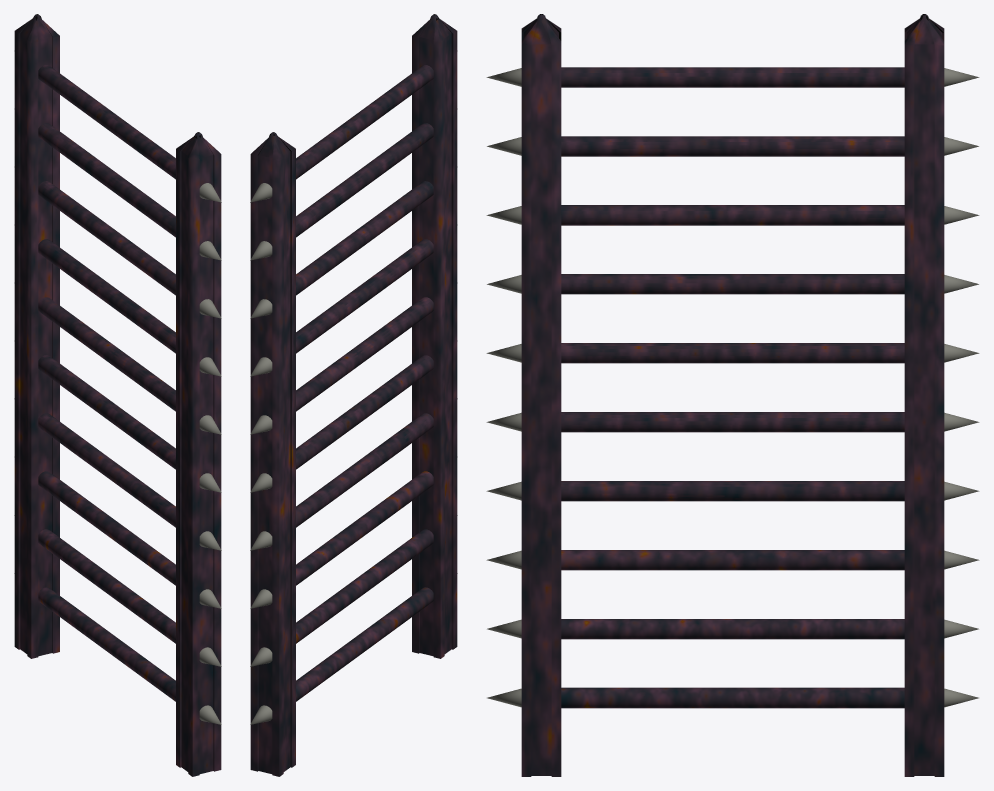
File: CA_016_iron_ladder_var2.glb
The picture shows the model from 3 angles, left to right: view 1: azimuth 30°, elevation 25°; view 2: azimuth 150°, elevation 25°; view 3: azimuth 270°, elevation 25°; orthographic projection. The views are drawn at different scales.
Visible parts, largest first — view 1: ladder_support, ladder_bars, spikes; view 2: ladder_support, ladder_bars, spikes; view 3: ladder_bars, ladder_support, spikes.
Part boxes in pixels (box(x1,y1,x2,y2)): ladder_support: box(14, 14, 221, 776); ladder_bars: box(38, 65, 175, 701); spikes: box(14, 183, 221, 724); ladder_support: box(250, 14, 457, 776); ladder_bars: box(296, 65, 433, 701); spikes: box(250, 183, 457, 724); ladder_bars: box(561, 67, 904, 708); ladder_support: box(521, 14, 944, 776); spikes: box(486, 68, 979, 707).
Bounding box in the file's own units: 0.18 × 3.79 × 2.25.
2 materials, 1 textured.
